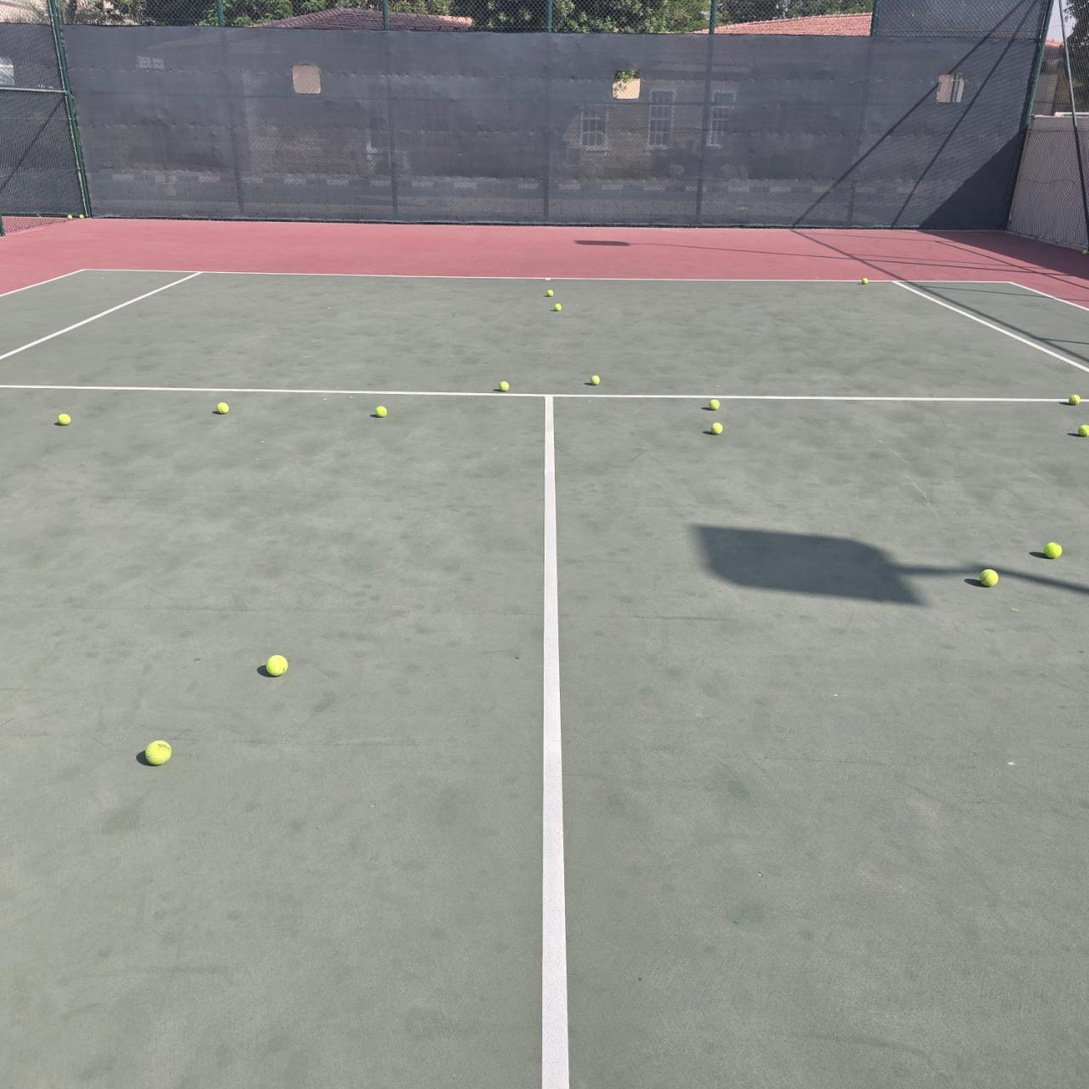tennis-ball: (144, 738, 172, 765), (265, 652, 288, 676), (979, 568, 999, 586), (1043, 542, 1062, 558), (213, 399, 229, 414), (54, 411, 71, 425), (373, 402, 387, 417), (710, 422, 724, 435), (708, 399, 720, 411), (1078, 424, 1089, 436), (1068, 395, 1080, 406), (499, 381, 509, 392), (591, 375, 600, 386), (554, 303, 562, 311), (547, 289, 553, 297), (861, 278, 868, 284)
